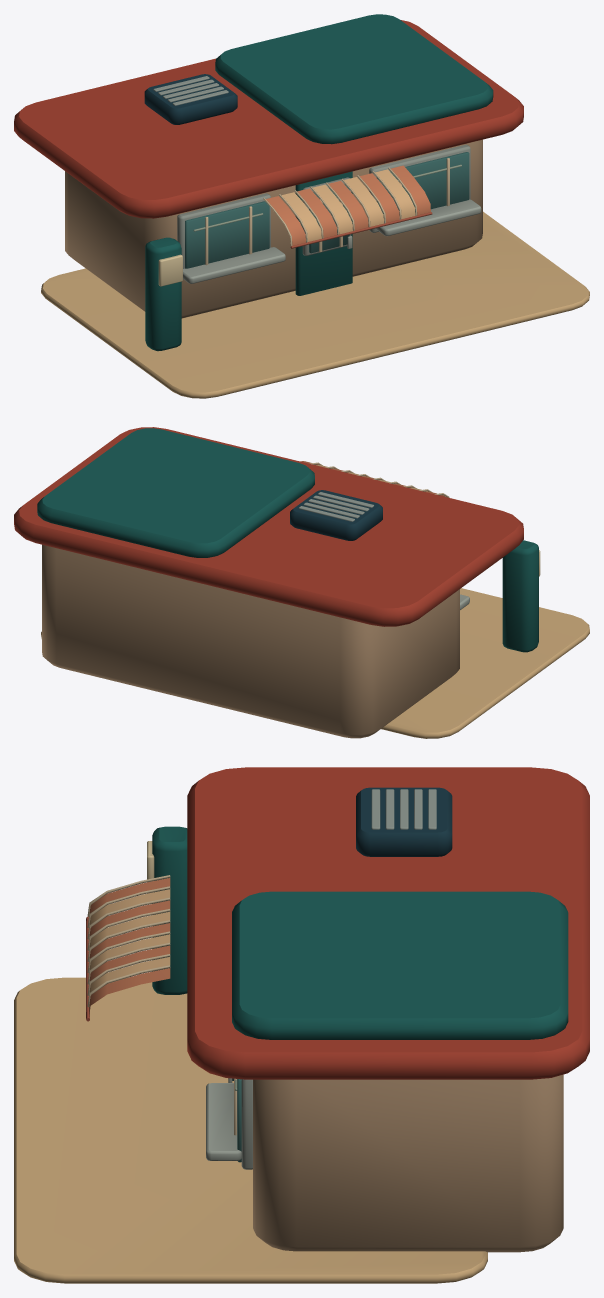
Rendered from drive_through.glb.
The picture shows the model from 3 angles, top to bottom: view 1: azimuth 30°, elevation 25°; view 2: azimuth 150°, elevation 25°; view 3: azimuth 270°, elevation 25°; orthographic projection. The views are drawn at different scales.
Visible parts, largest first — view 1: DriveThrough; view 2: DriveThrough; view 3: DriveThrough.
Boxes of the visible parts, x1,y1,x2,y2 form: DriveThrough: [14, 14, 589, 398]; DriveThrough: [14, 427, 589, 738]; DriveThrough: [14, 767, 589, 1283].
Size of the model in its own units: 6.84 by 2.92 by 5.57.
